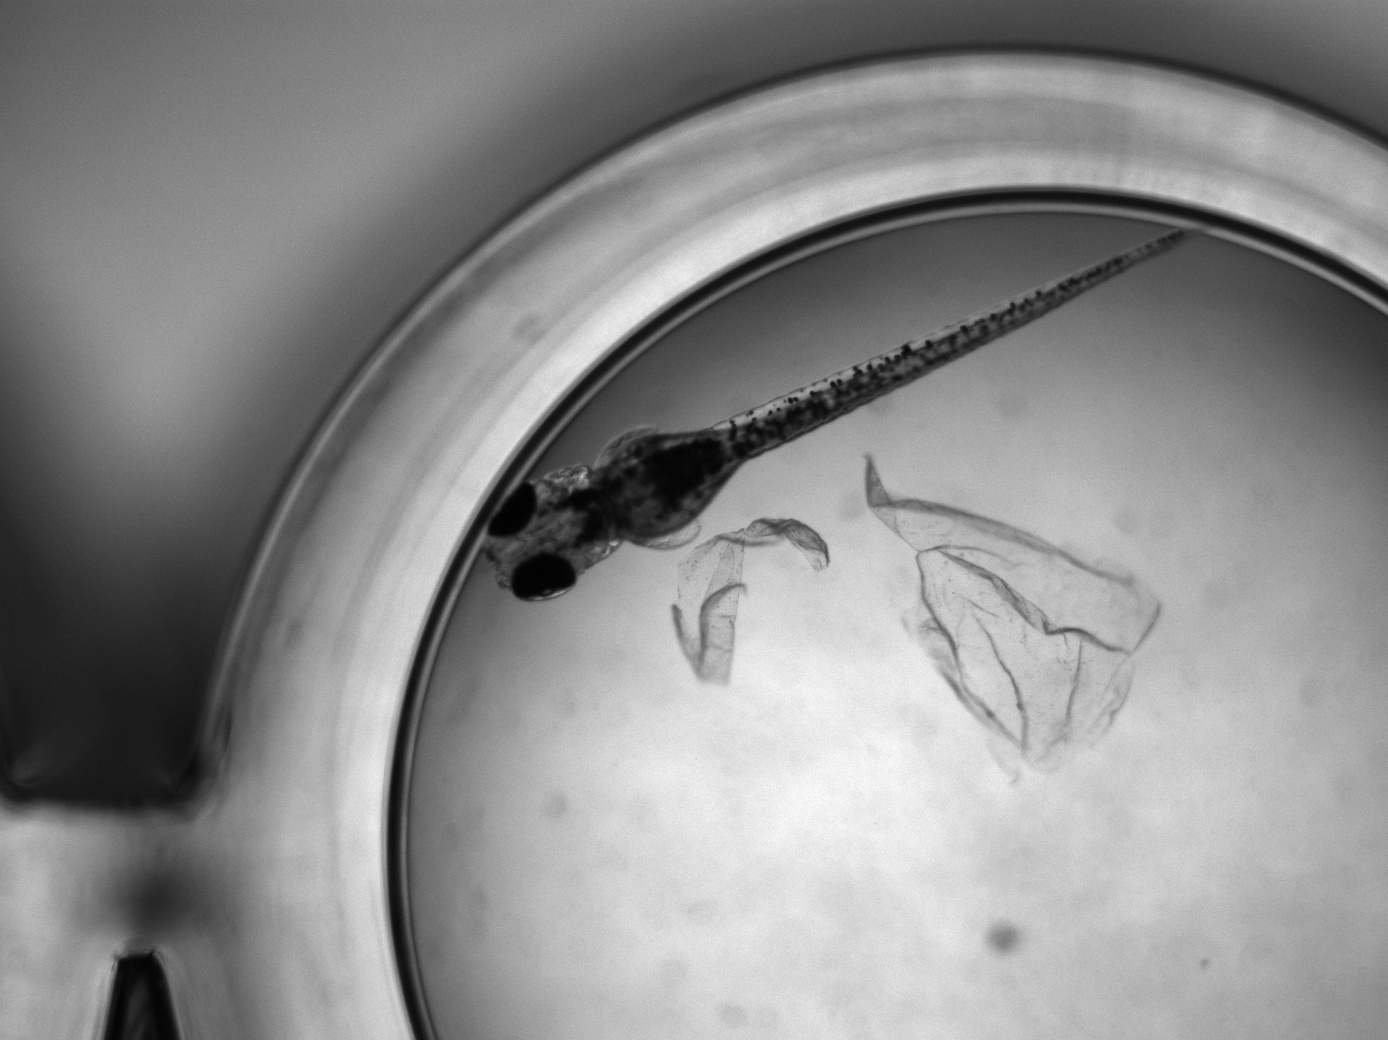debris: (861, 450, 1162, 779), (671, 516, 832, 690)
embryo: (483, 226, 1199, 601)
eye: (510, 552, 576, 601), (487, 482, 538, 537)
yolksac: (605, 425, 722, 537)
